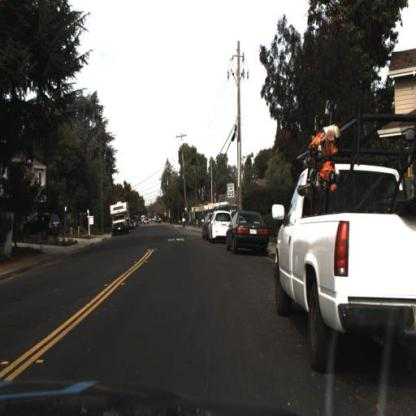car: (272, 157, 416, 379), (224, 206, 266, 256), (206, 206, 232, 245), (24, 211, 61, 238), (206, 210, 233, 245)
truck: (108, 199, 129, 235)
